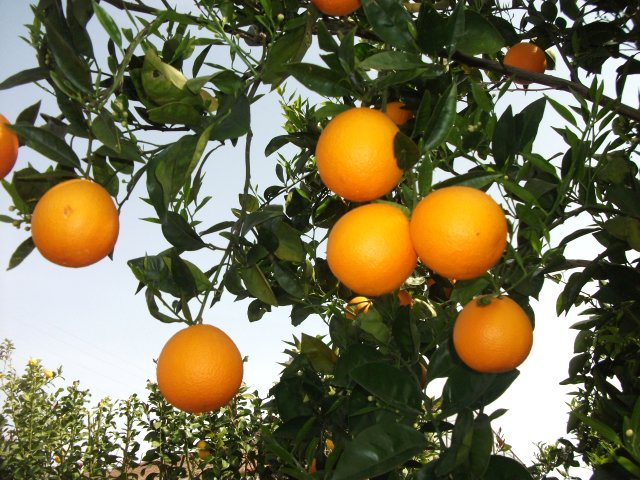portakal: (143, 311, 338, 443), (19, 167, 165, 277), (291, 80, 413, 205), (432, 287, 567, 385), (486, 18, 564, 98)
